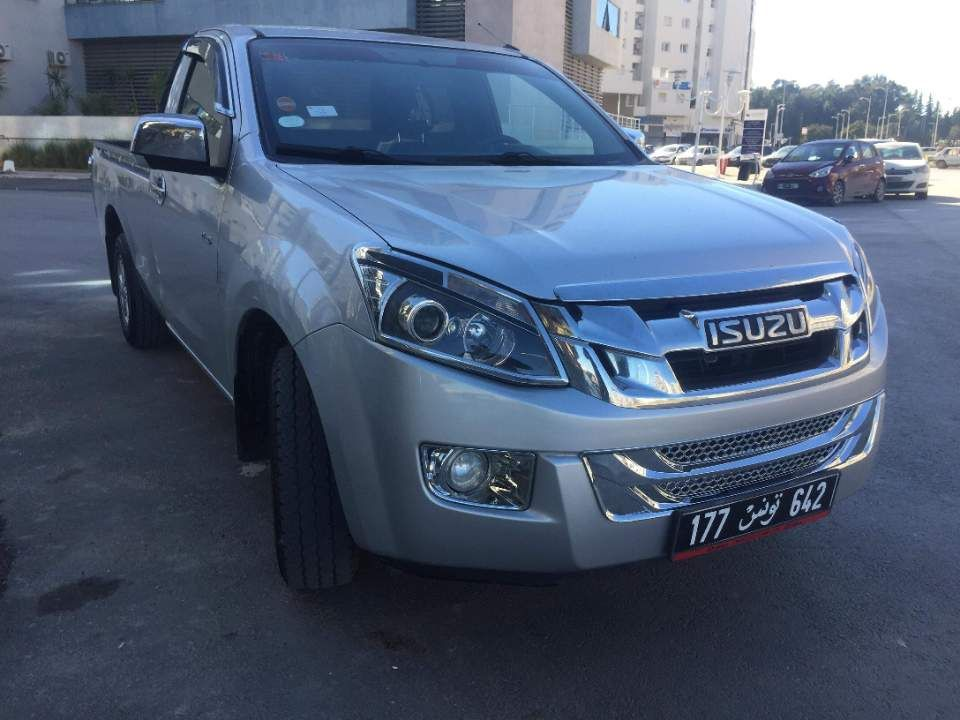LP: (671, 472, 838, 558)
